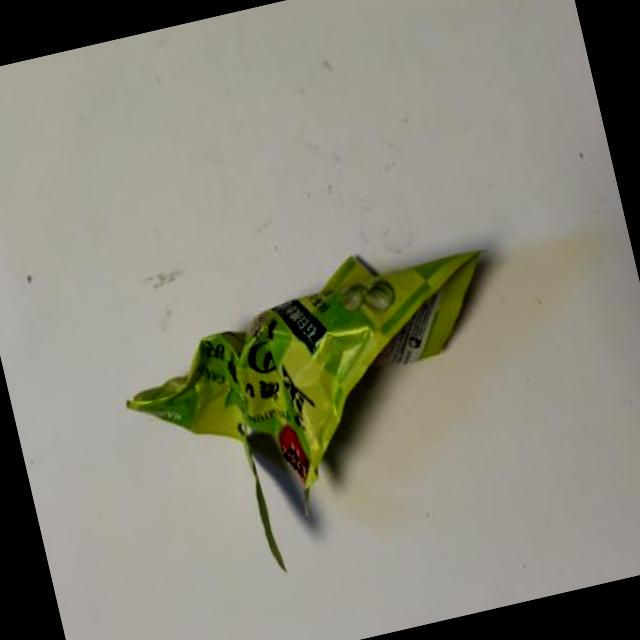Recycle: (101, 225, 546, 601)
